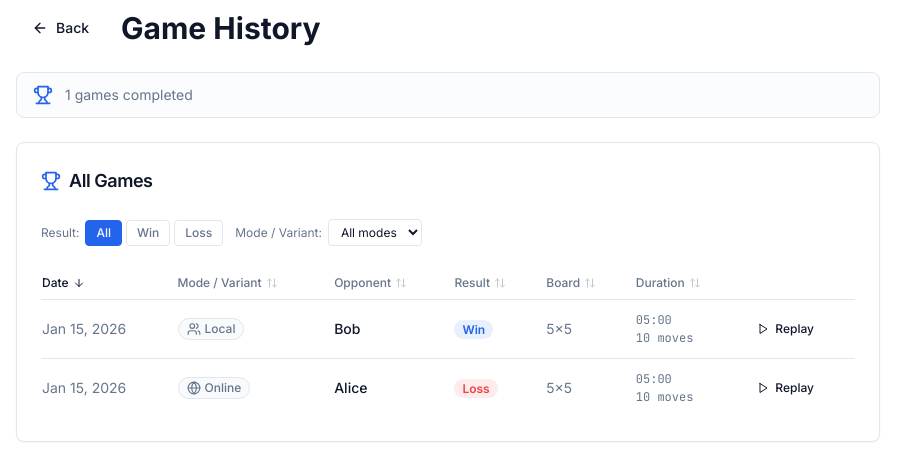
Test case: GameHistoryPage — mode filter › filters by mode when a mode is selected
Step 1. Select "Local" in the dropdown → point(375, 232), box [328,219,422,246]
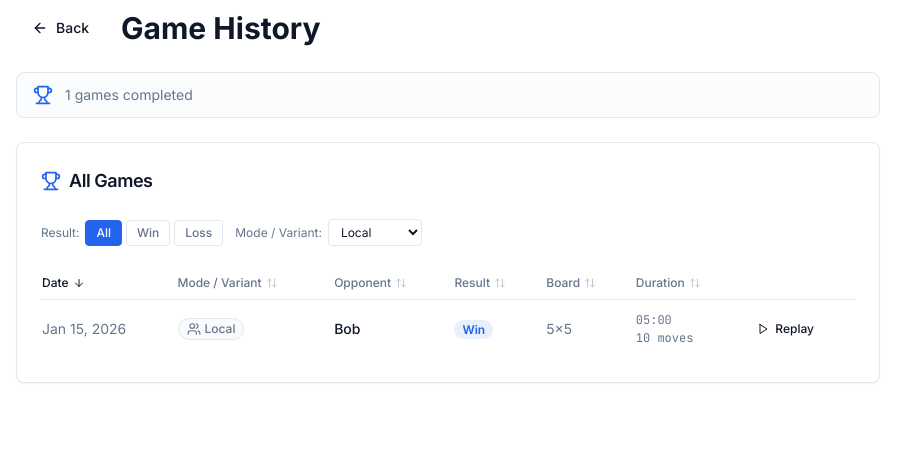
Result: the number of buttons "Replay" is 1 at [745,315,826,343]
